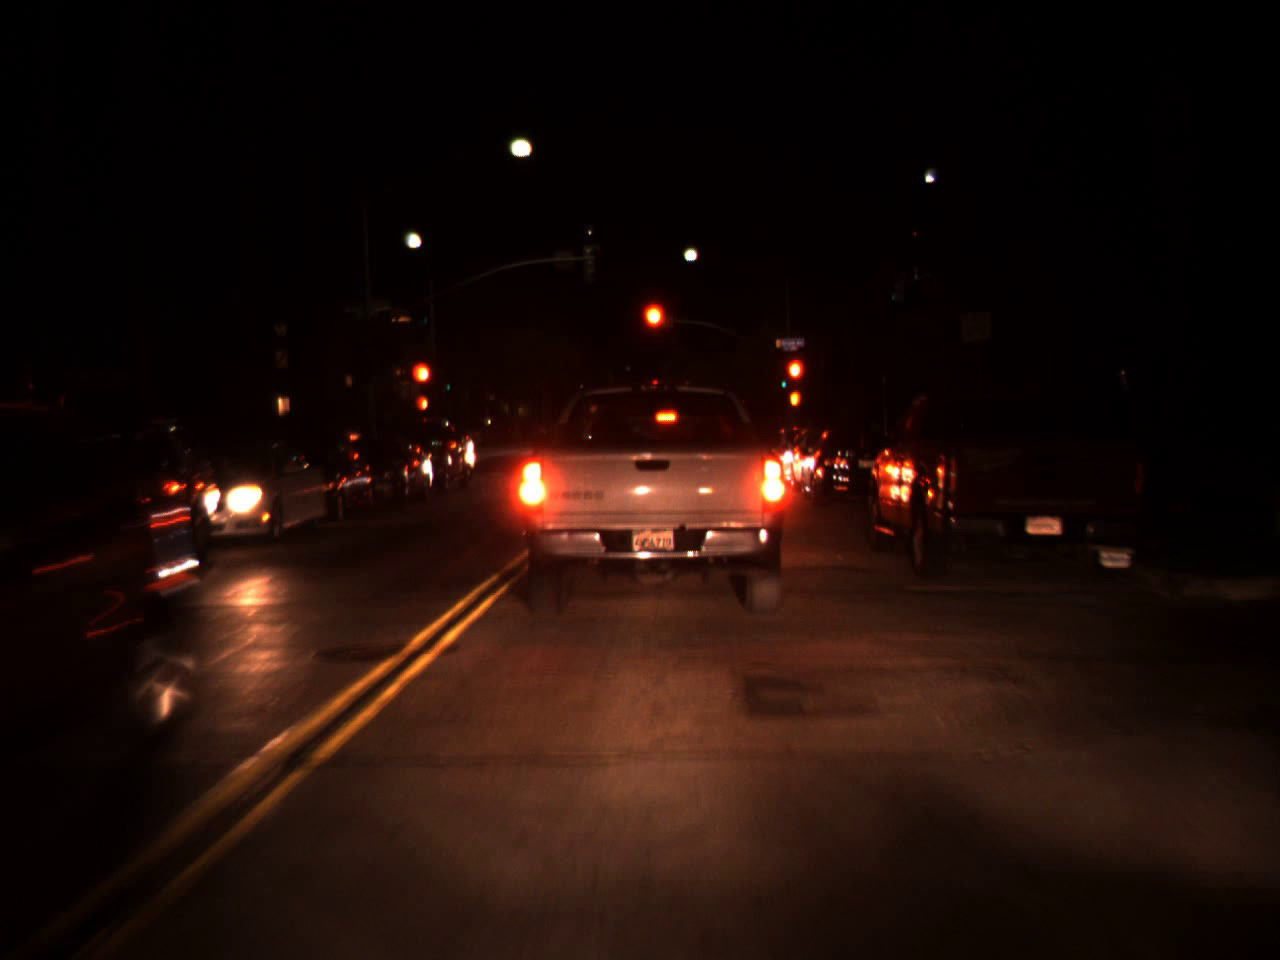stop: (640, 298, 668, 360), (410, 359, 434, 407), (784, 355, 806, 406)
